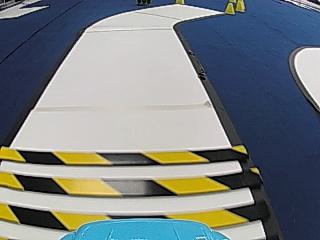bump: (3, 140, 263, 226)
